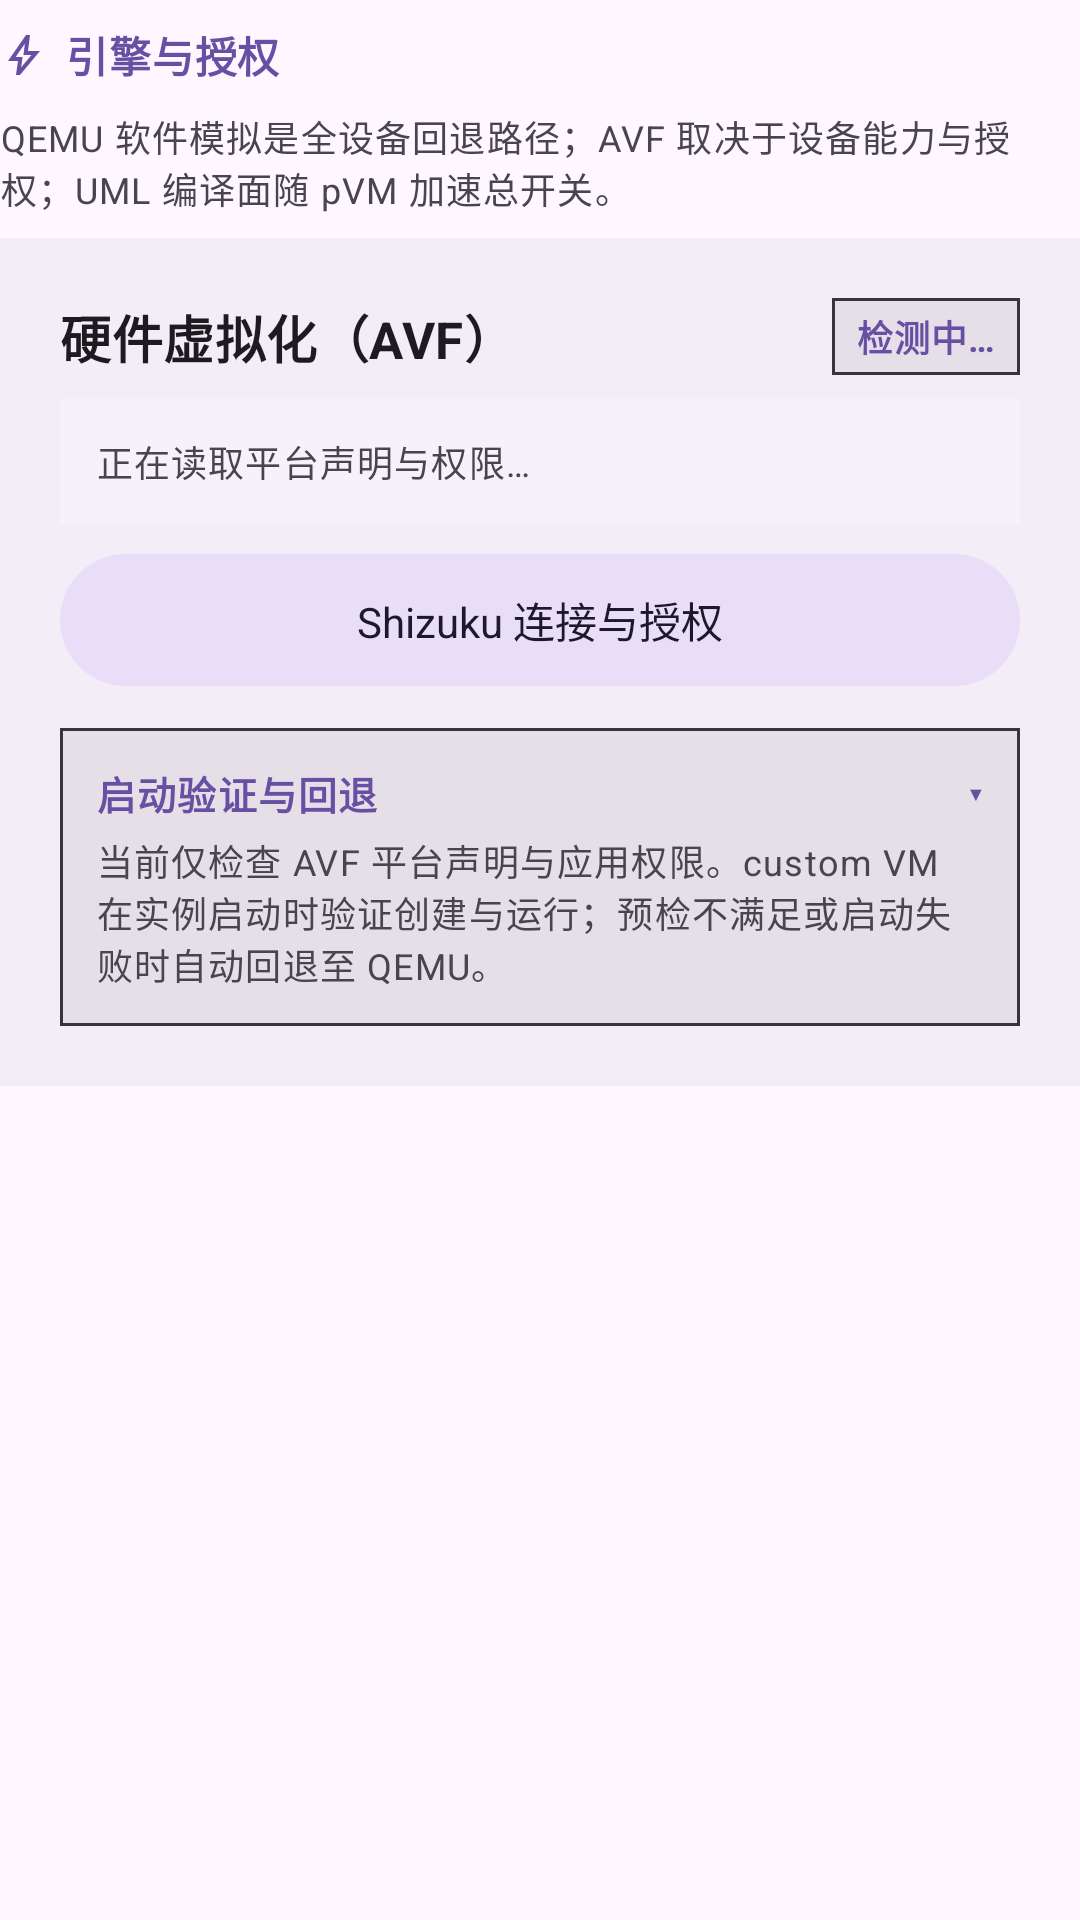

Icons on this 1080px×1920px Android screen, each with the point to tap as (x=x, y=y):
sym bolt: (x=24, y=55)
